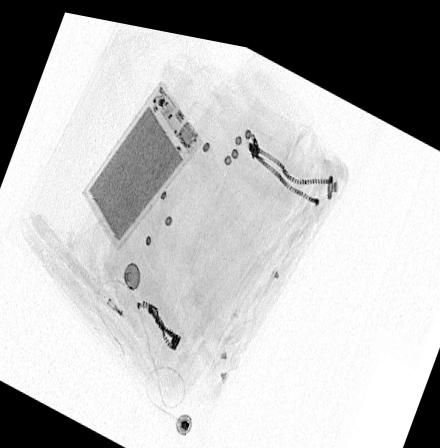Powerbank: (78, 72, 203, 248)
